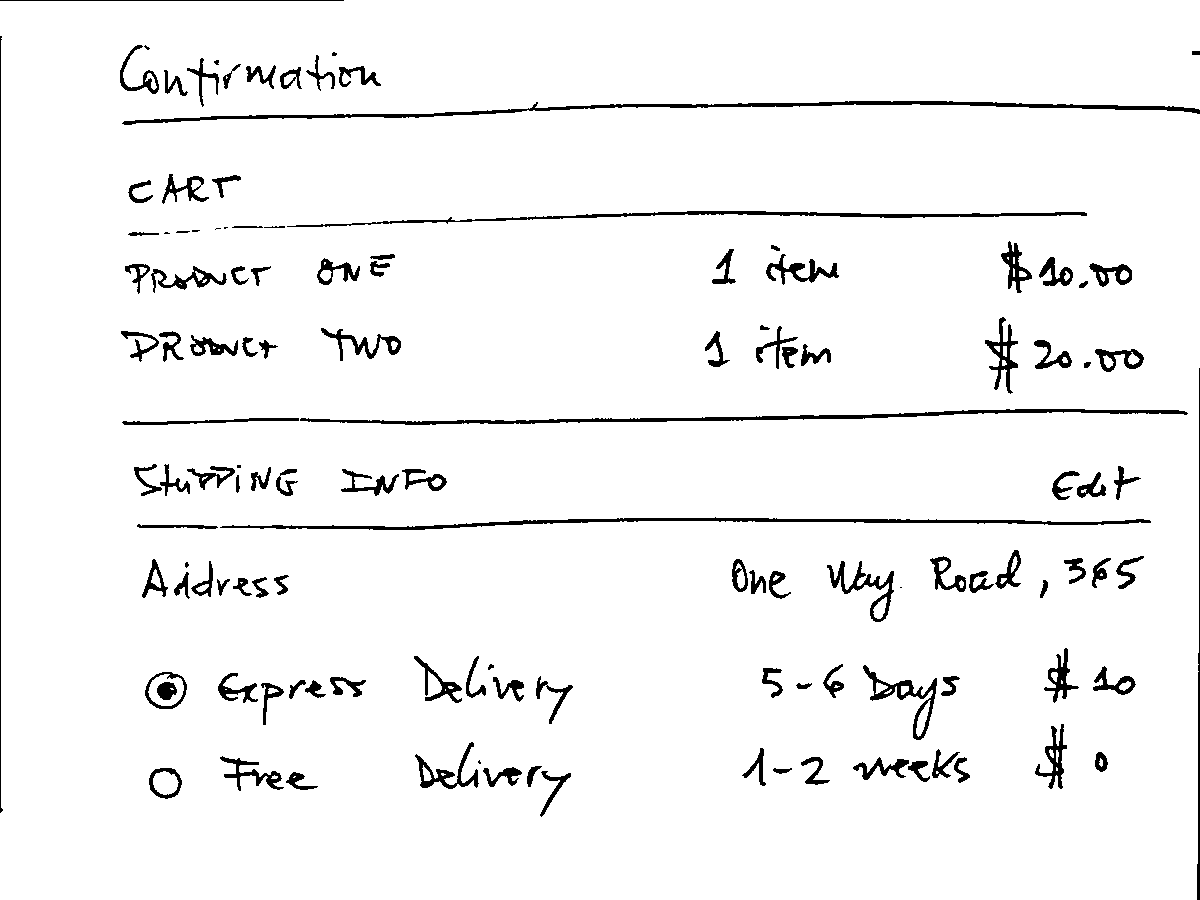Radio Button: (139, 644, 579, 732), (146, 741, 576, 823)
